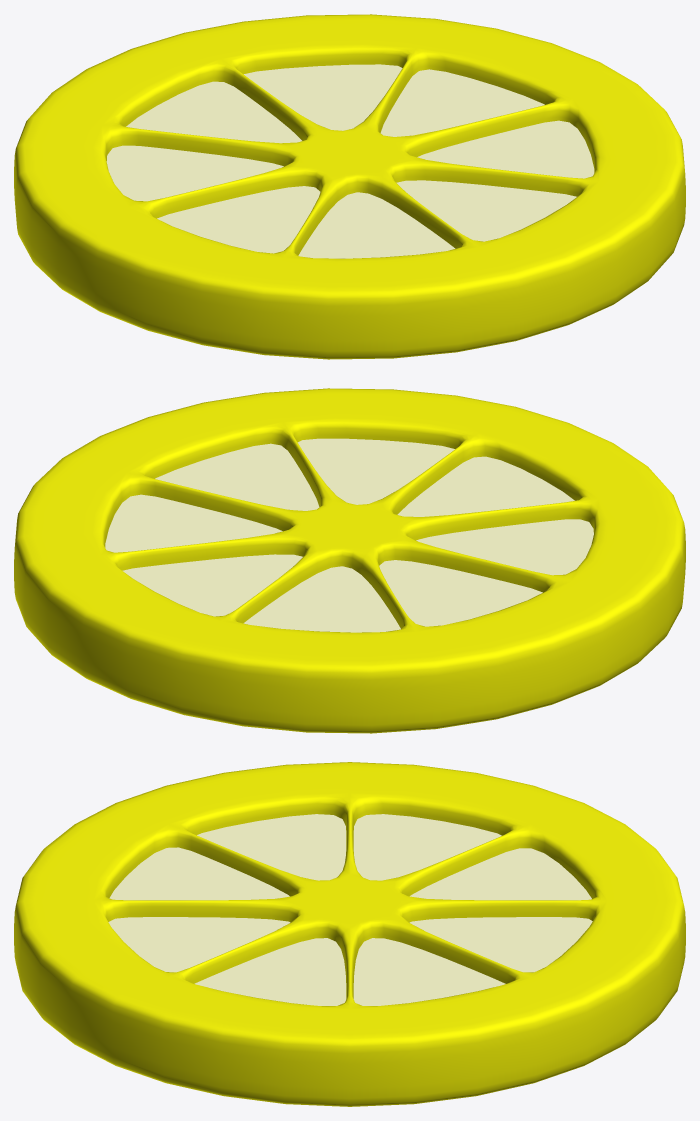
The model's file is item-lemons.glb.
3 views of the same model, one above another, from view 1: azimuth 30°, elevation 25°; view 2: azimuth 150°, elevation 25°; view 3: azimuth 270°, elevation 25° (orthographic).
Size of the model in its own units: 1.8 by 0.2 by 1.8.
